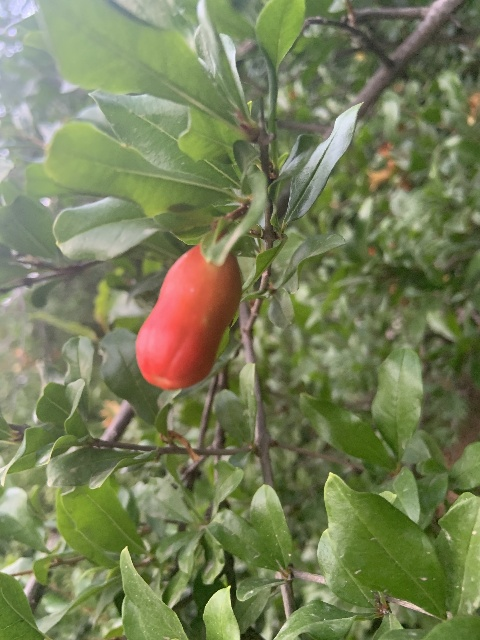bud: (136, 243, 242, 392)
